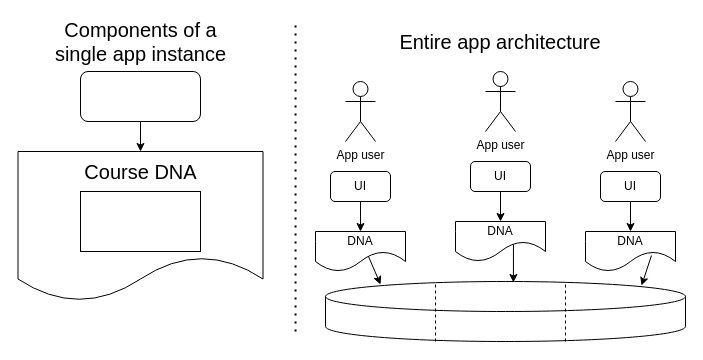
This 703x360 diagram has some shape labels left out. Each missing label, with the centre of its shape:
"courses zome" belongs at point 140,221.
"DHT" belongs at point 505,311.
"User Interface" belongs at point 140,96.
